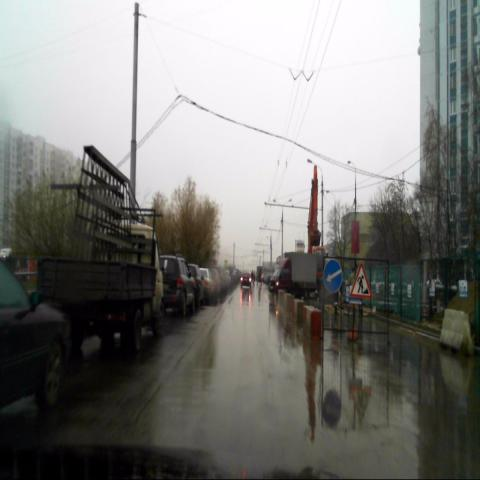4_2_2: (324, 260, 342, 293)
